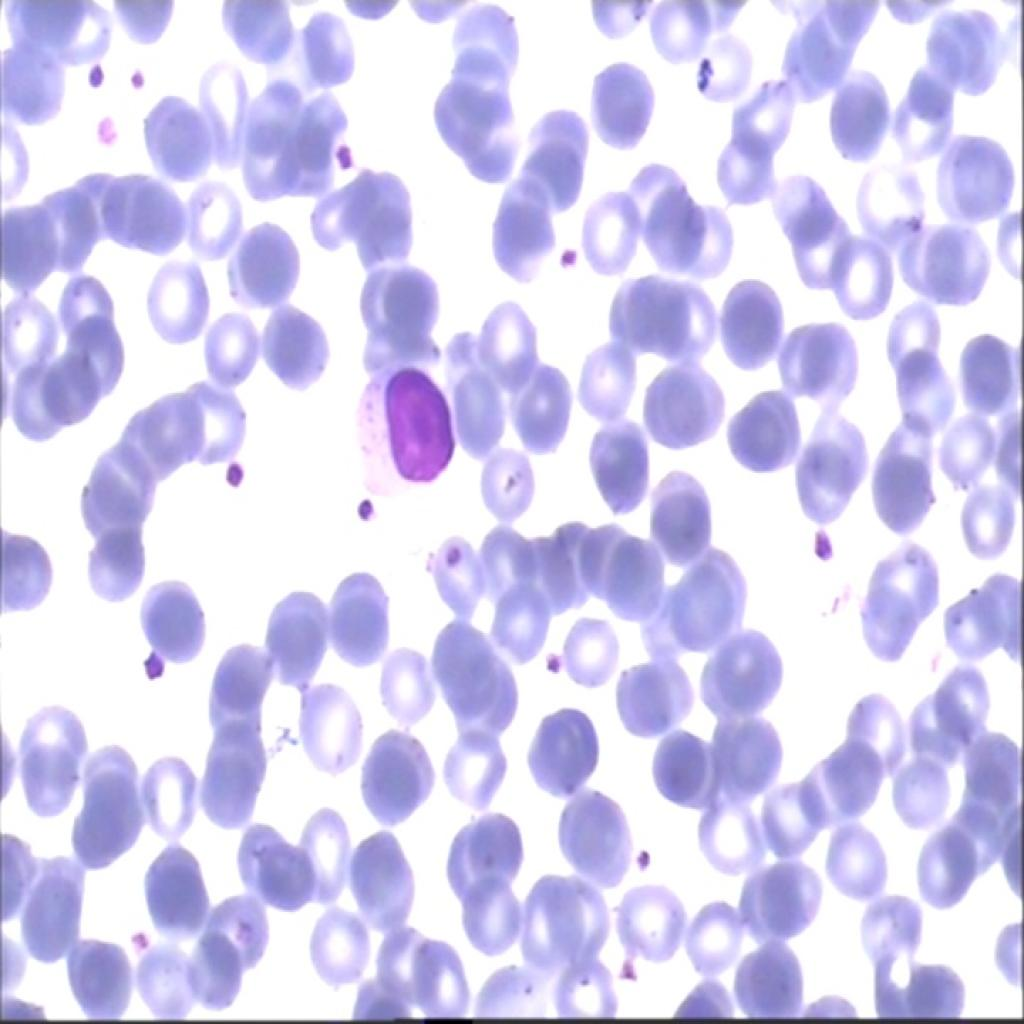Monosit: (346, 359, 465, 498)
Platelet: (125, 644, 168, 692), (800, 519, 838, 567), (550, 233, 582, 277), (538, 636, 563, 692), (221, 455, 253, 498), (629, 837, 657, 880), (122, 59, 154, 96), (609, 948, 637, 988), (332, 133, 356, 178), (90, 112, 116, 151), (78, 57, 105, 92), (348, 485, 372, 523), (434, 537, 462, 569)
